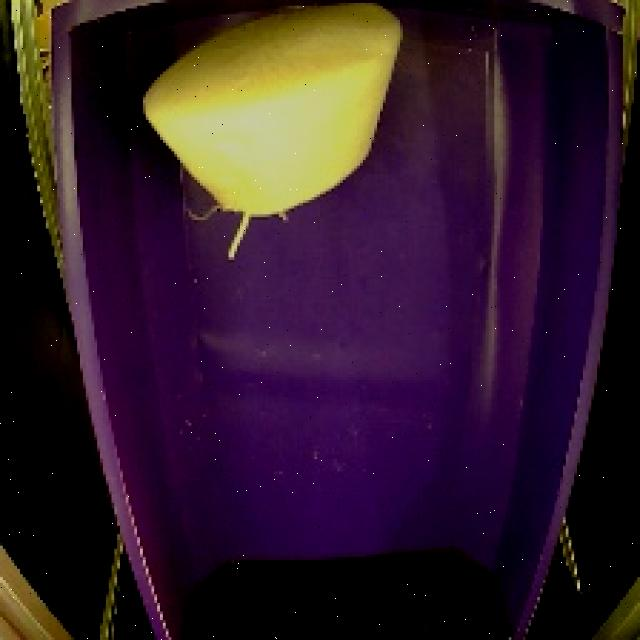white_radish: (132, 0, 406, 264)
